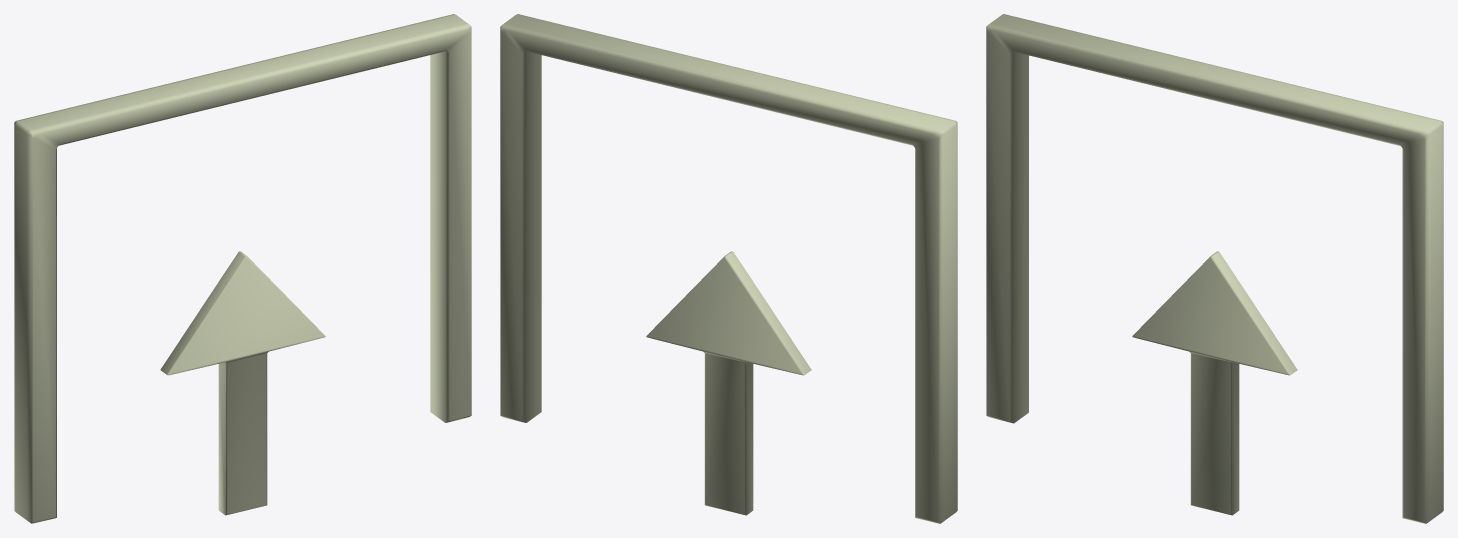
File: scoop.obj
3 views of the same model, side by side, from view 1: azimuth 30°, elevation 25°; view 2: azimuth 150°, elevation 25°; view 3: azimuth 330°, elevation 25° (orthographic).
Parts seen in each view (by area): view 1: Cube3; view 2: Cube3; view 3: Cube3.
Part boxes in pixels (bbox=[...]): Cube3: bbox=[14, 14, 471, 523]; Cube3: bbox=[500, 14, 957, 523]; Cube3: bbox=[986, 14, 1443, 523].
Bounding box in the file's own units: 0.6929 × 0.6501 × 0.0498.
